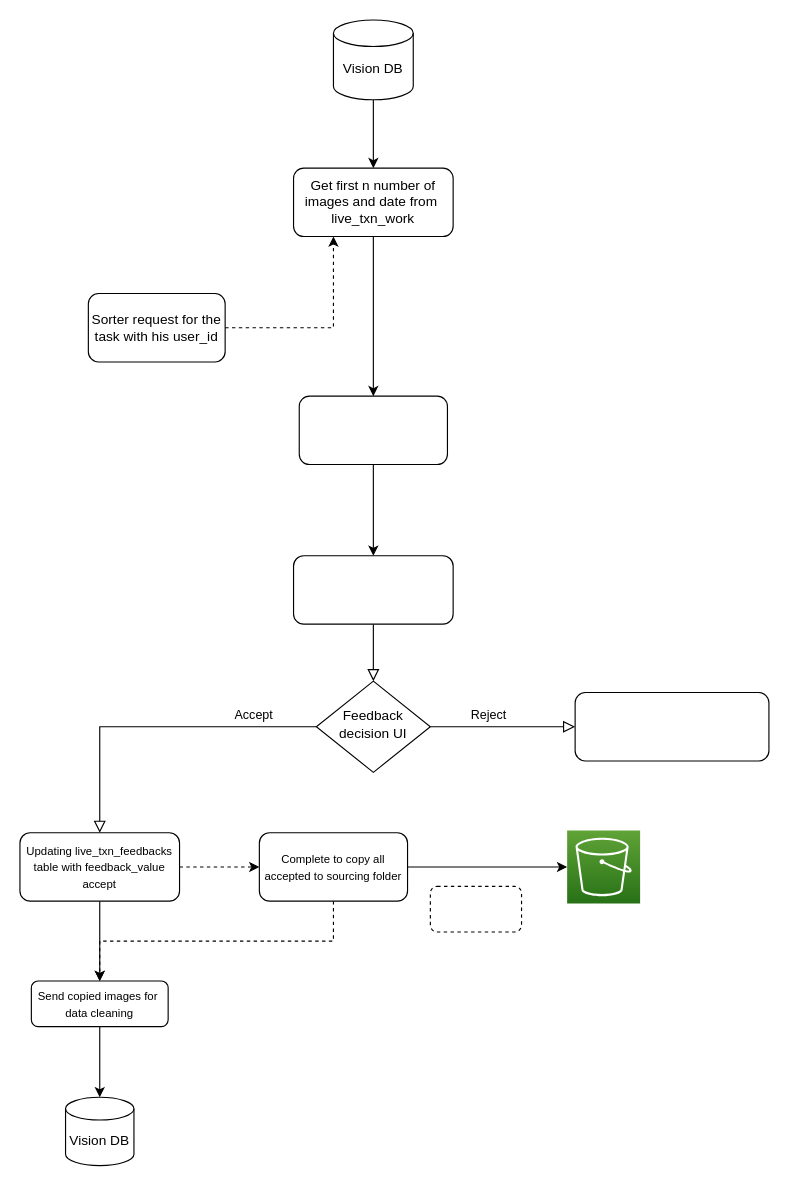
Image size: 789x1186. Some labels were removed from this diagram. The centre of each missing label's shape, as x and y in pixels:
"Copy Images to S3 Bucket" goes at point 475,908.
"Insert assigned images and date to live_txn_work_assing" goes at point 372,430.
"List data from live_txn_work_assing table with date filter" goes at point 372,589.
"Updating live_txn_feedbacks table with feedback_value reject" goes at point 671,726.
